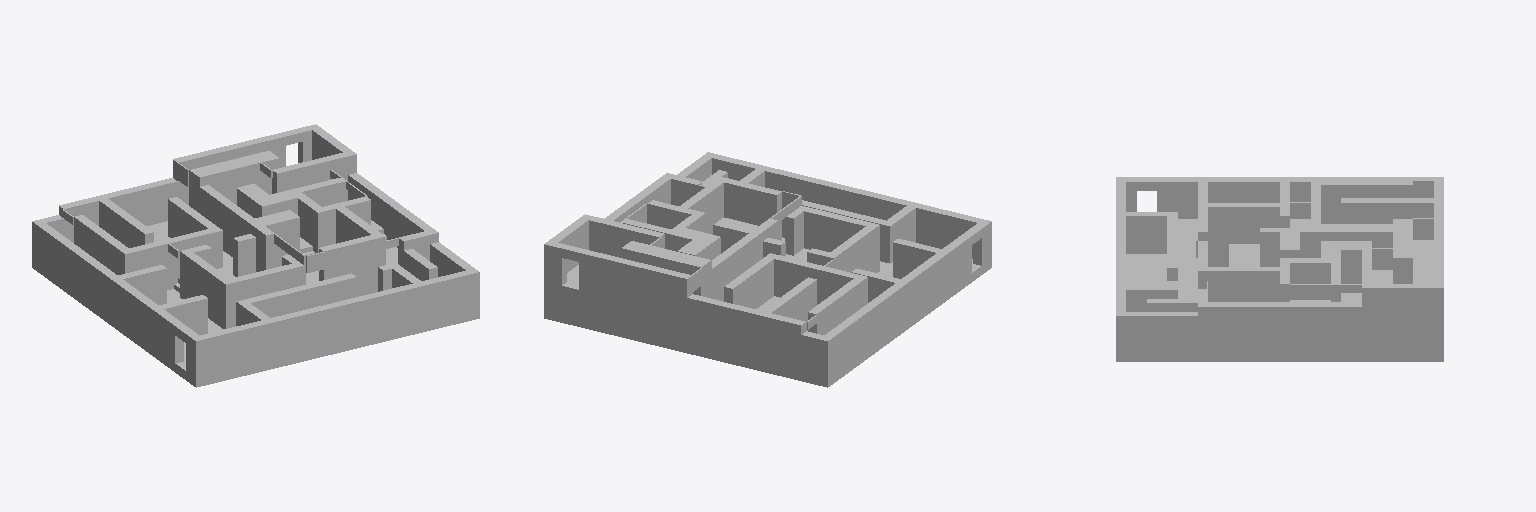
Rendered from new_ivan_corridor_no_ceiling.obj.
The picture shows the model from 3 angles: view 1: azimuth 30°, elevation 25°; view 2: azimuth 150°, elevation 25°; view 3: azimuth 270°, elevation 25°; orthographic projection.
Parts seen in each view (by area): view 1: object 1; view 2: object 1; view 3: object 1.
Part boxes in pixels (bbox=[...]): object 1: bbox=[32, 124, 479, 387]; object 1: bbox=[544, 152, 991, 387]; object 1: bbox=[1116, 177, 1443, 361].
Bounding box in the file's own units: 19.2 × 4.8 × 19.2.